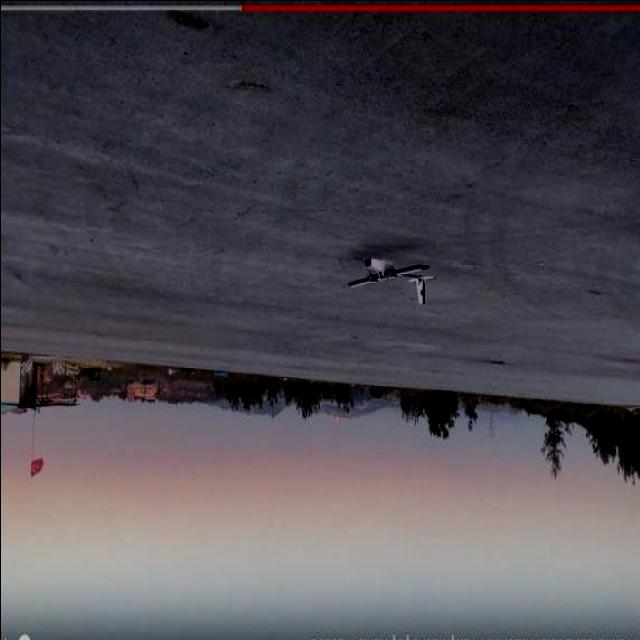plane: (346, 256, 436, 306)
